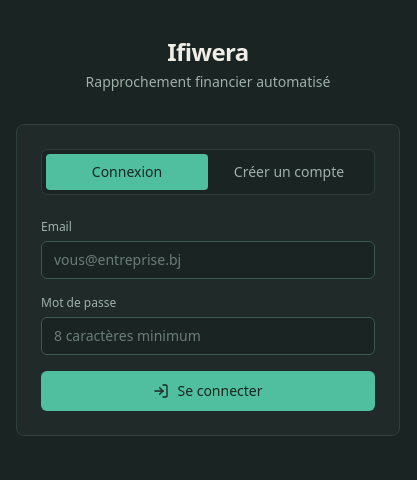
it: LoginScreen › affiche un message générique si le serveur est injoignable
Type "a@b.bj" into the field labelled "Email" at (208, 260), box x1=41 y1=241 x2=375 y2=279
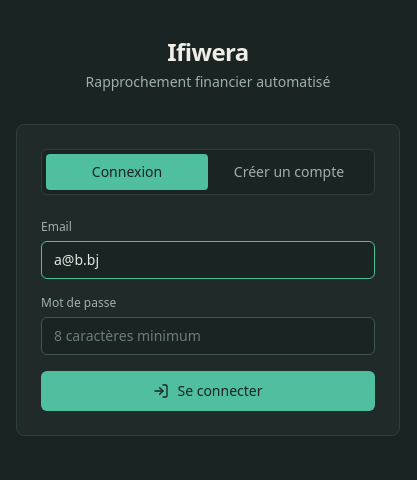
Type "motdepasse123" into the password field labelled "Mot de passe" at (208, 336), box x1=41 y1=317 x2=375 y2=355
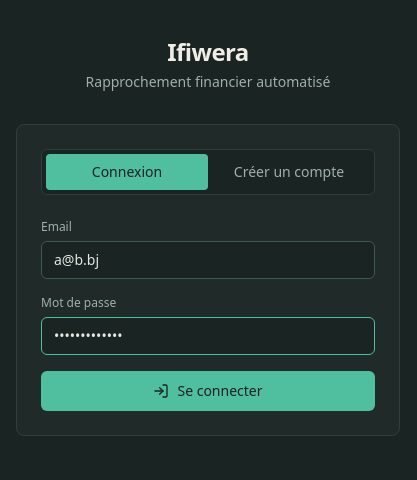
Click the button "Se connecter" at (208, 391), box x1=41 y1=371 x2=375 y2=411
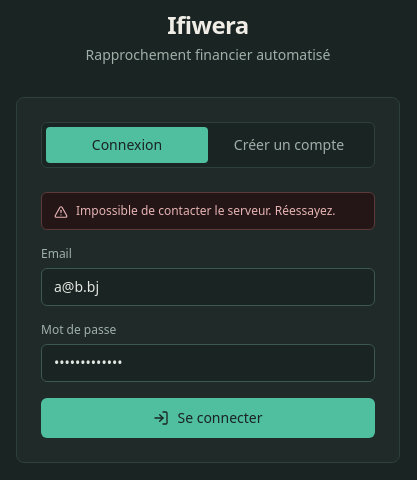
Now the text "Impossible de contacter le serveur. Réessayez." is shown, box x1=41 y1=192 x2=375 y2=230
